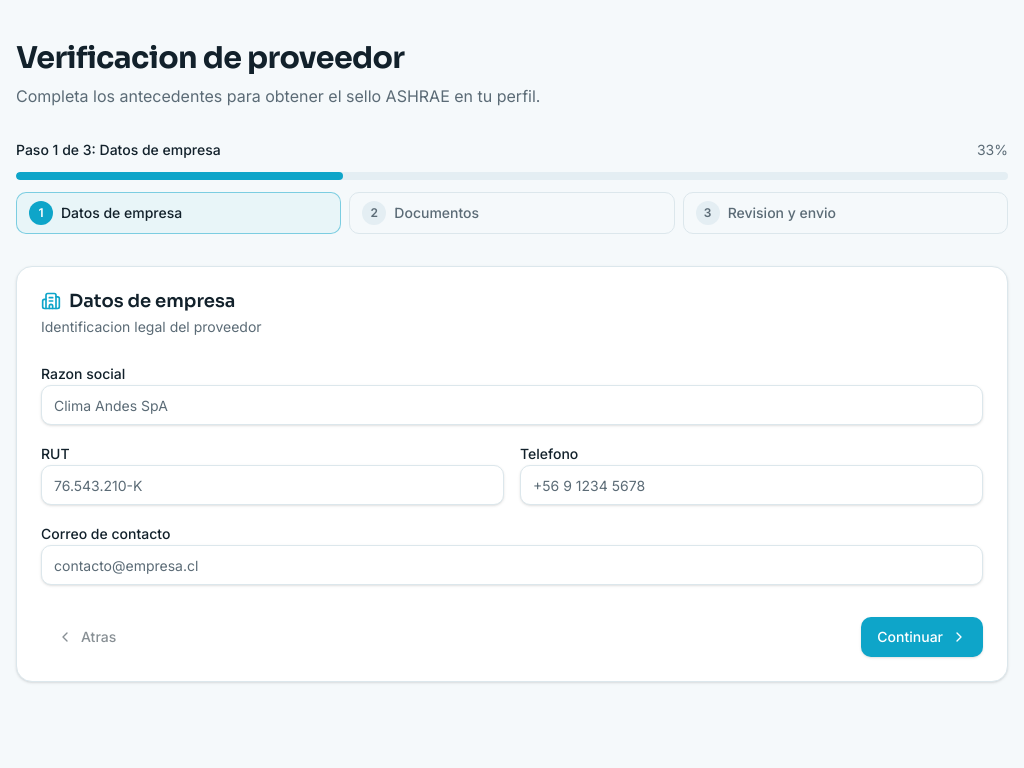
Test: VerificationWizard › no avanza desde el paso 1 con datos invalidos
The image size is (1024, 768).
Step 1. Click the button "Continuar" → {"x": 922, "y": 637}, box x1=861 y1=617 x2=983 y2=657
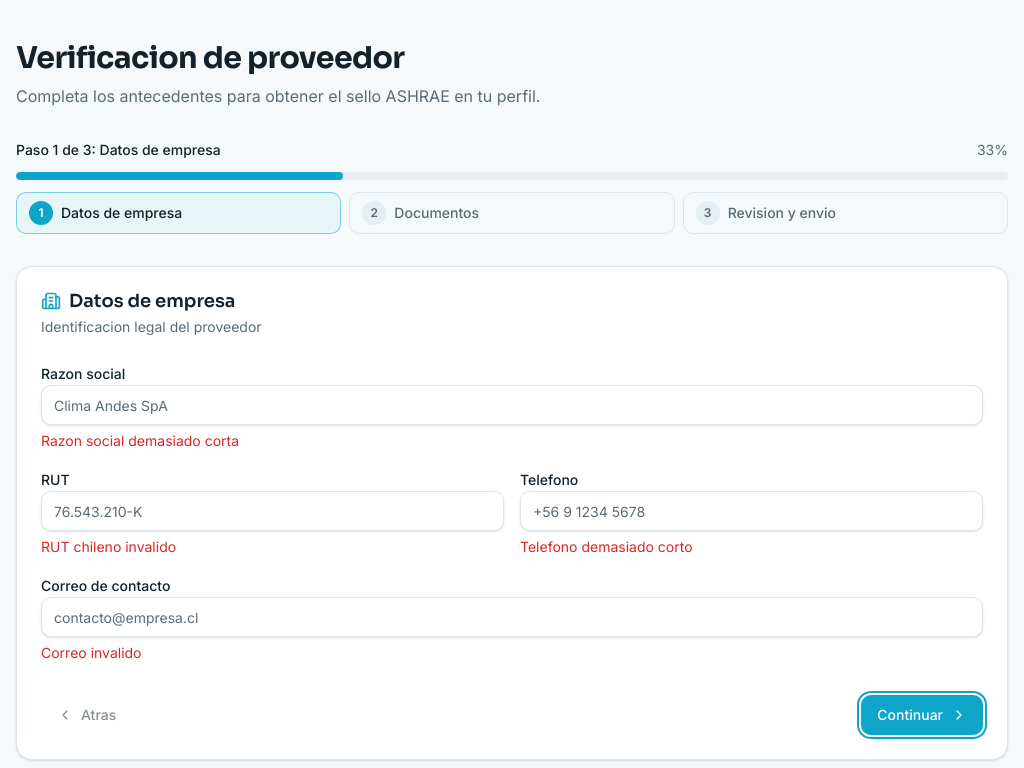
Expected: the text "Paso 1 de 3: Datos de empresa" is shown, x1=16 y1=140 x2=221 y2=160
Expected: the text "Razon social demasiado corta" is shown, x1=41 y1=432 x2=239 y2=449
